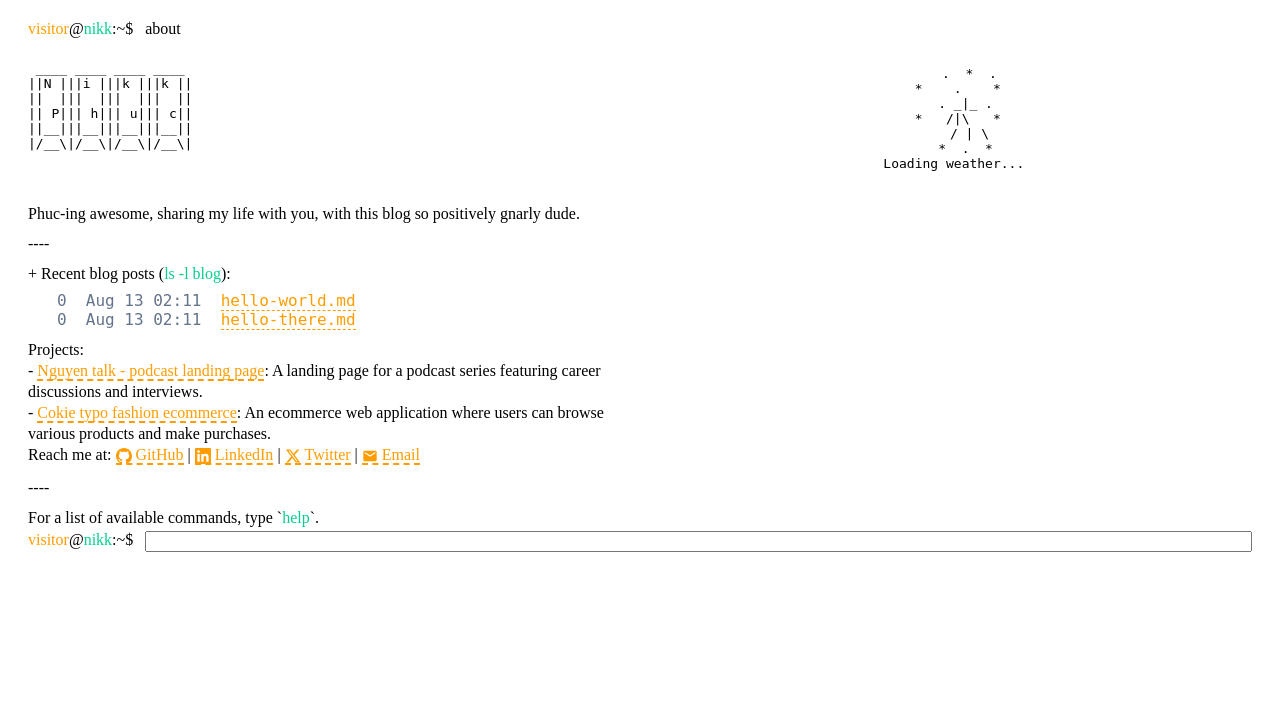
it: Terminal component › autocomplete behavior › completes command with Ctrl+I (alternative to Tab)
Type "hel" into the field titled "terminal-input".
click(699, 542); type("hel")  # box [145,531,1252,552]
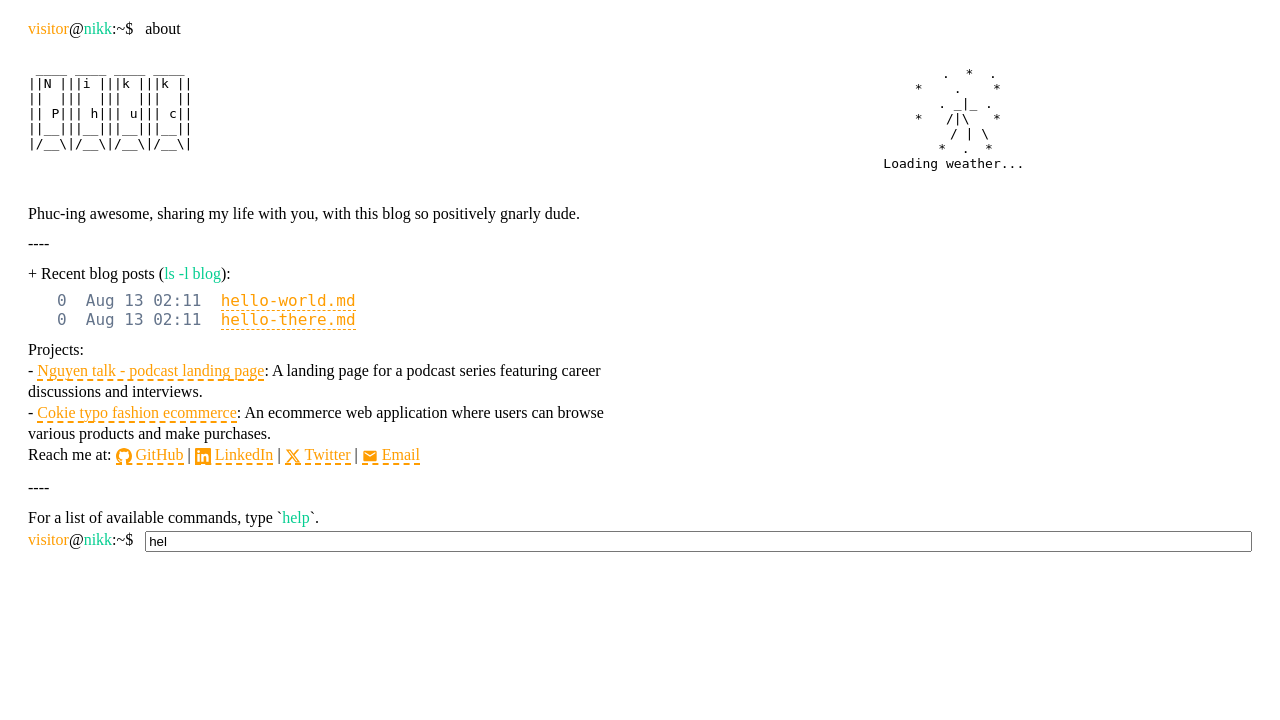
Press i in the field titled "terminal-input", box [145,531,1252,552]
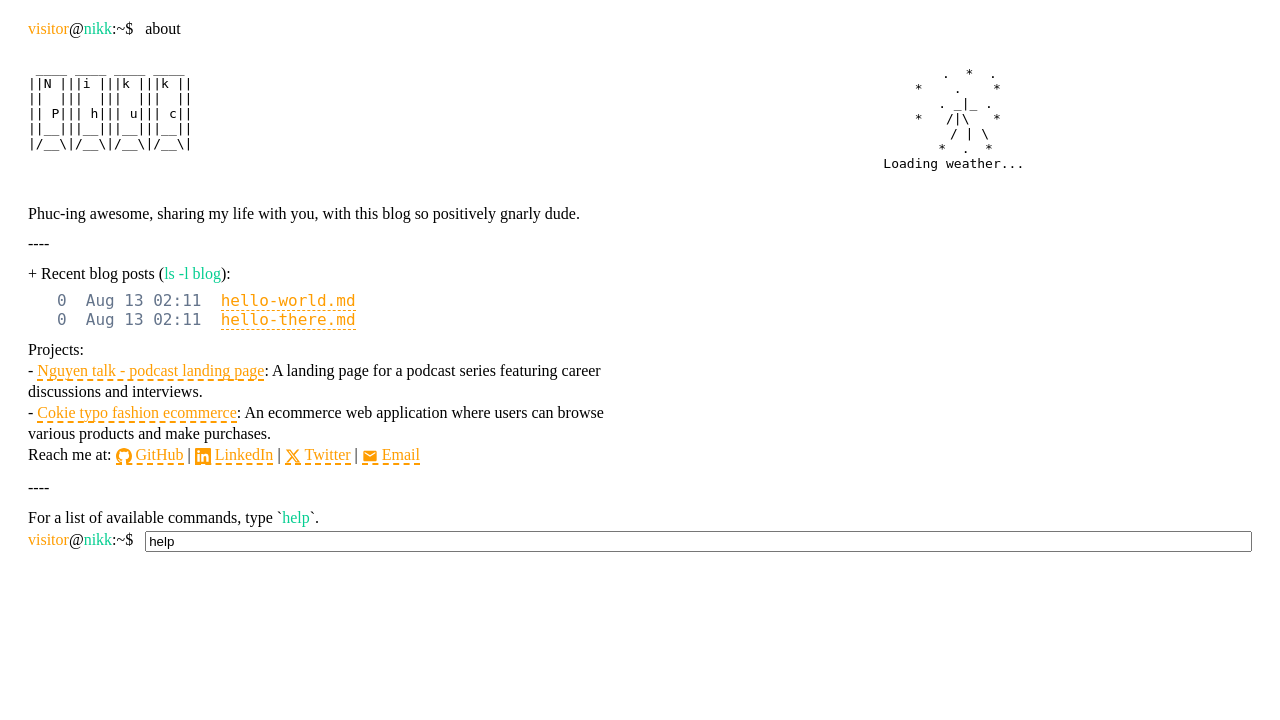
Now the field titled "terminal-input" holds "help ", box [145,531,1252,552]
